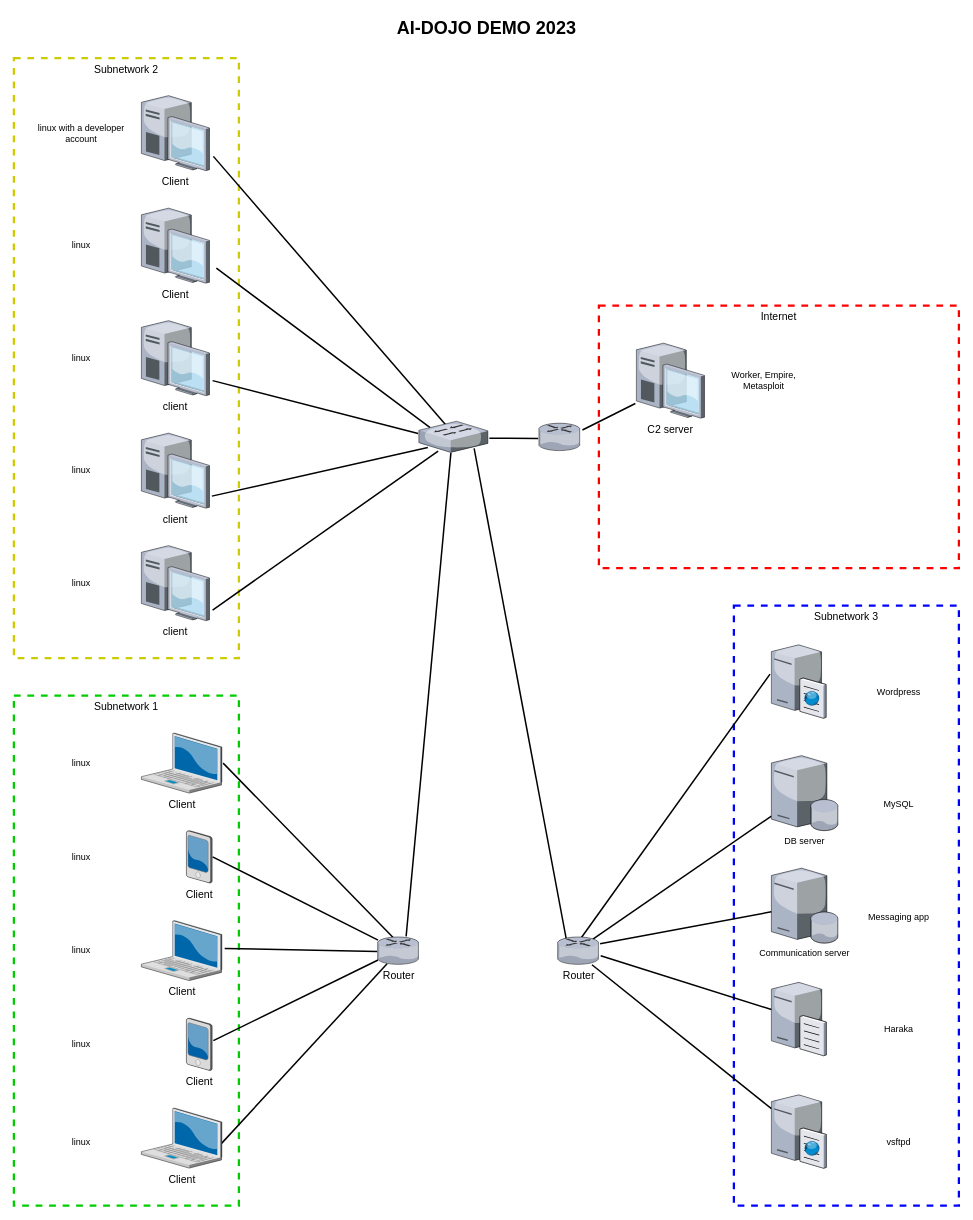
Some shapes in this 973 by 1220 pixel diagram are drawn without their labels. The shapes that lost their labels are listed below. From the top down, each one's centre as x and y in pixels, then its label:
At (453,436): "Switch".
At (559,436): "Perimeter router".
At (798,680): "Web server".
At (798,1017): "Mail server".
At (798,1130): "FTP server".
